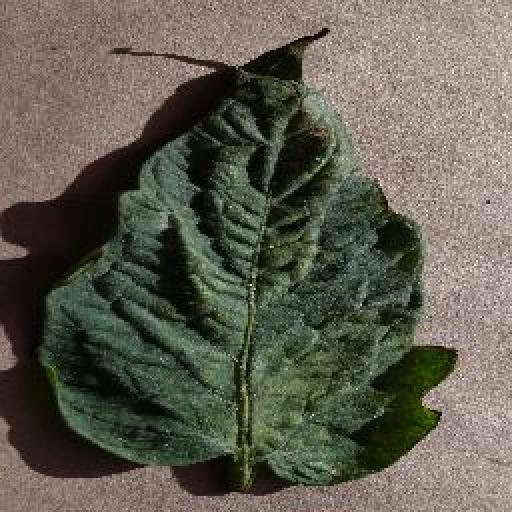disease_tomato: (36, 24, 460, 486)
